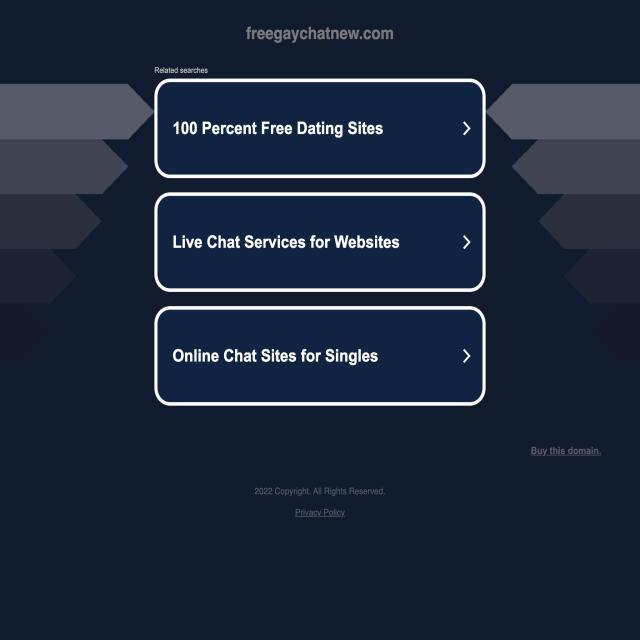button: (134, 302, 498, 408), (158, 78, 478, 170), (150, 199, 481, 278)
link: (245, 16, 395, 43)
